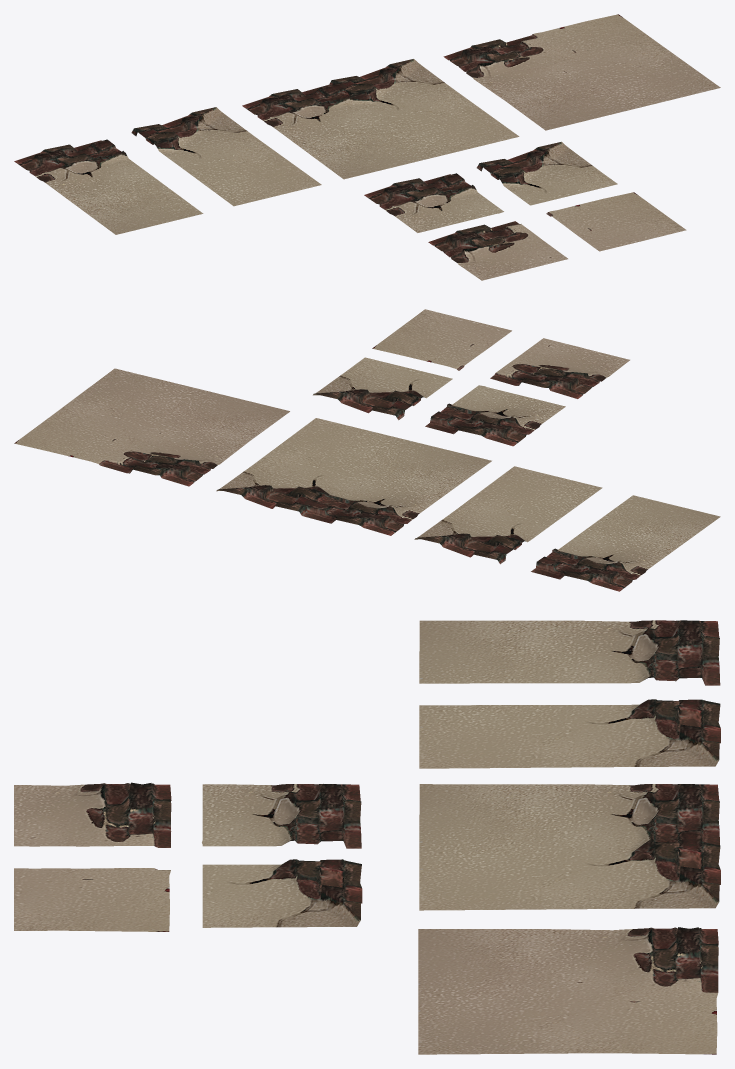
File: Wall Bricks.FBX
3 views of the same model, one above another, from view 1: azimuth 30°, elevation 25°; view 2: azimuth 150°, elevation 25°; view 3: azimuth 270°, elevation 25° (orthographic). The views are drawn at different scales.
Visible parts, largest first — view 1: Wall Half Bricks, Wall Hole Bricks, Wall Half Bricks Half, Wall Half Bricks Half 2, Wall Bricks Quater 2, Wall Bricks Quater 1, Wall Bricks Quater 3, Wall Bricks Quater 4; view 2: Wall Hole Bricks, Wall Half Bricks, Wall Half Bricks Half 2, Wall Half Bricks Half, Wall Bricks Quater 1, Wall Bricks Quater 4, Wall Bricks Quater 3, Wall Bricks Quater 2; view 3: Wall Half Bricks, Wall Hole Bricks, Wall Half Bricks Half, Wall Half Bricks Half 2, Wall Bricks Quater 2, Wall Bricks Quater 4, Wall Bricks Quater 3, Wall Bricks Quater 1.
Part boxes in pixels (box(x1,y1,x2,y2)): Wall Half Bricks: box(242, 59, 519, 179); Wall Hole Bricks: box(443, 14, 720, 130); Wall Half Bricks Half: box(131, 107, 321, 206); Wall Half Bricks Half 2: box(14, 139, 203, 234); Wall Bricks Quater 2: box(476, 141, 617, 205); Wall Bricks Quater 1: box(364, 173, 503, 232); Wall Bricks Quater 3: box(428, 221, 567, 280); Wall Bricks Quater 4: box(546, 192, 686, 251); Wall Hole Bricks: box(14, 368, 289, 486); Wall Half Bricks: box(216, 418, 491, 535); Wall Half Bricks Half 2: box(531, 495, 720, 591); Wall Half Bricks Half: box(414, 466, 602, 564); Wall Bricks Quater 1: box(425, 385, 565, 446); Wall Bricks Quater 4: box(372, 309, 511, 370); Wall Bricks Quater 3: box(490, 338, 629, 398); Wall Bricks Quater 2: box(313, 357, 452, 420); Wall Half Bricks: box(419, 784, 720, 910); Wall Hole Bricks: box(418, 927, 718, 1054); Wall Half Bricks Half: box(419, 699, 720, 768); Wall Half Bricks Half 2: box(419, 620, 720, 685); Wall Bricks Quater 2: box(202, 859, 362, 927); Wall Bricks Quater 4: box(14, 868, 170, 931); Wall Bricks Quater 3: box(14, 782, 171, 847); Wall Bricks Quater 1: box(202, 784, 361, 848).
Bounding box in the file's own units: 850 × 585 × 14.13.
1 material, 1 textured.
